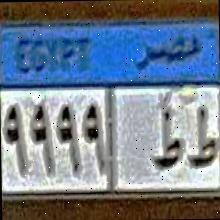9: (0, 100, 27, 180), (54, 102, 80, 184), (80, 100, 108, 176), (29, 101, 54, 183)
Taa: (148, 101, 182, 178), (186, 103, 218, 178)
